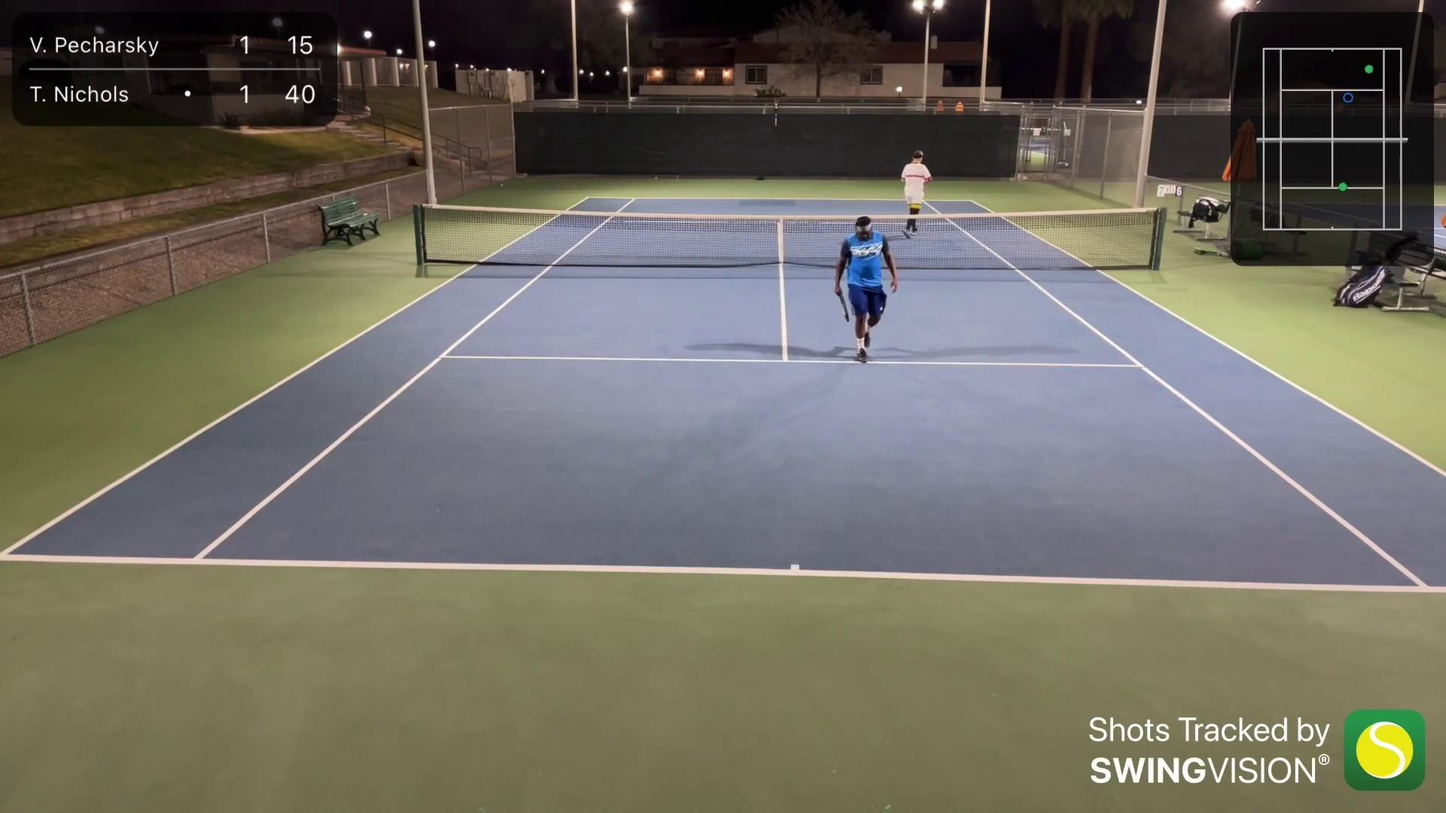ball: (499, 181, 505, 188)
